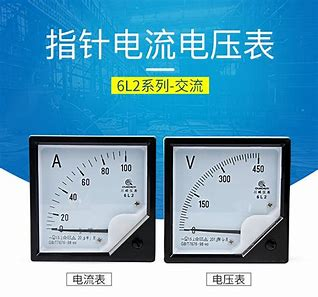pointer: (36, 143, 148, 254), (172, 146, 281, 256)
